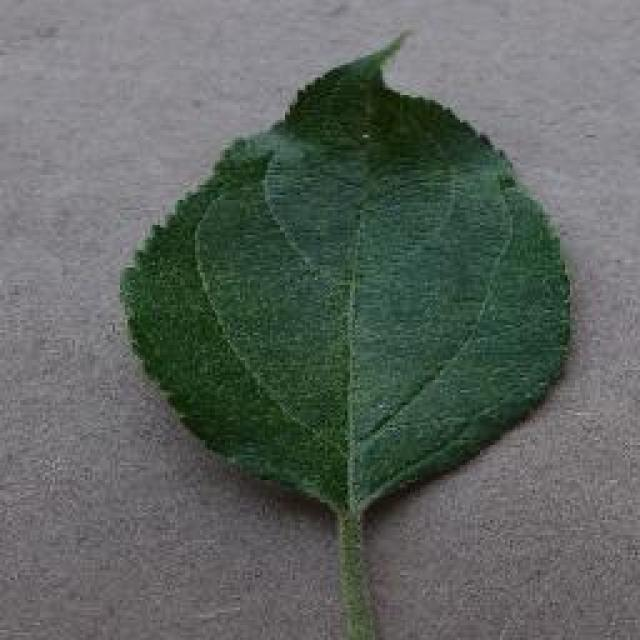apple scab disease: (115, 28, 575, 638)
